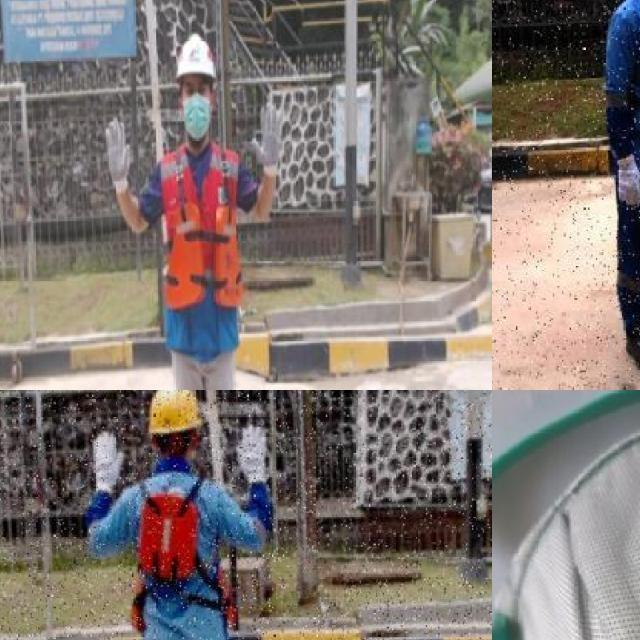apron: (82, 424, 130, 501), (250, 101, 284, 180), (233, 420, 272, 488), (102, 116, 134, 198), (611, 147, 640, 215)
